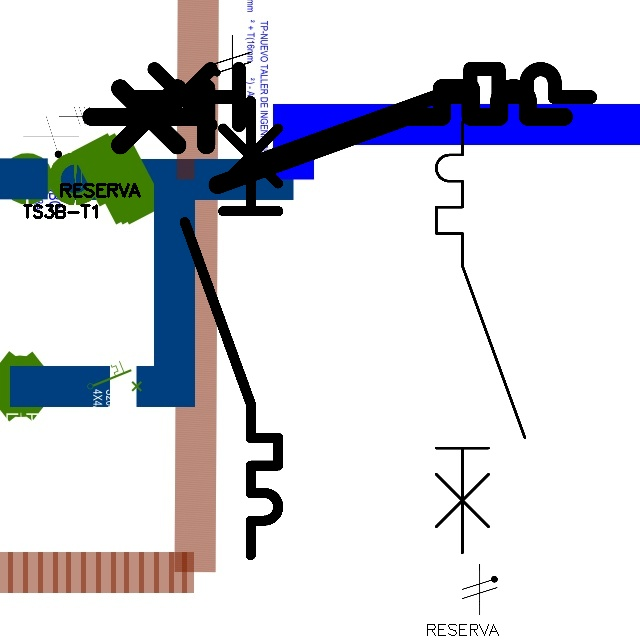interruptor_termomagnetico: (79, 76, 576, 197), (114, 57, 601, 176), (173, 89, 290, 567), (425, 111, 535, 563)
